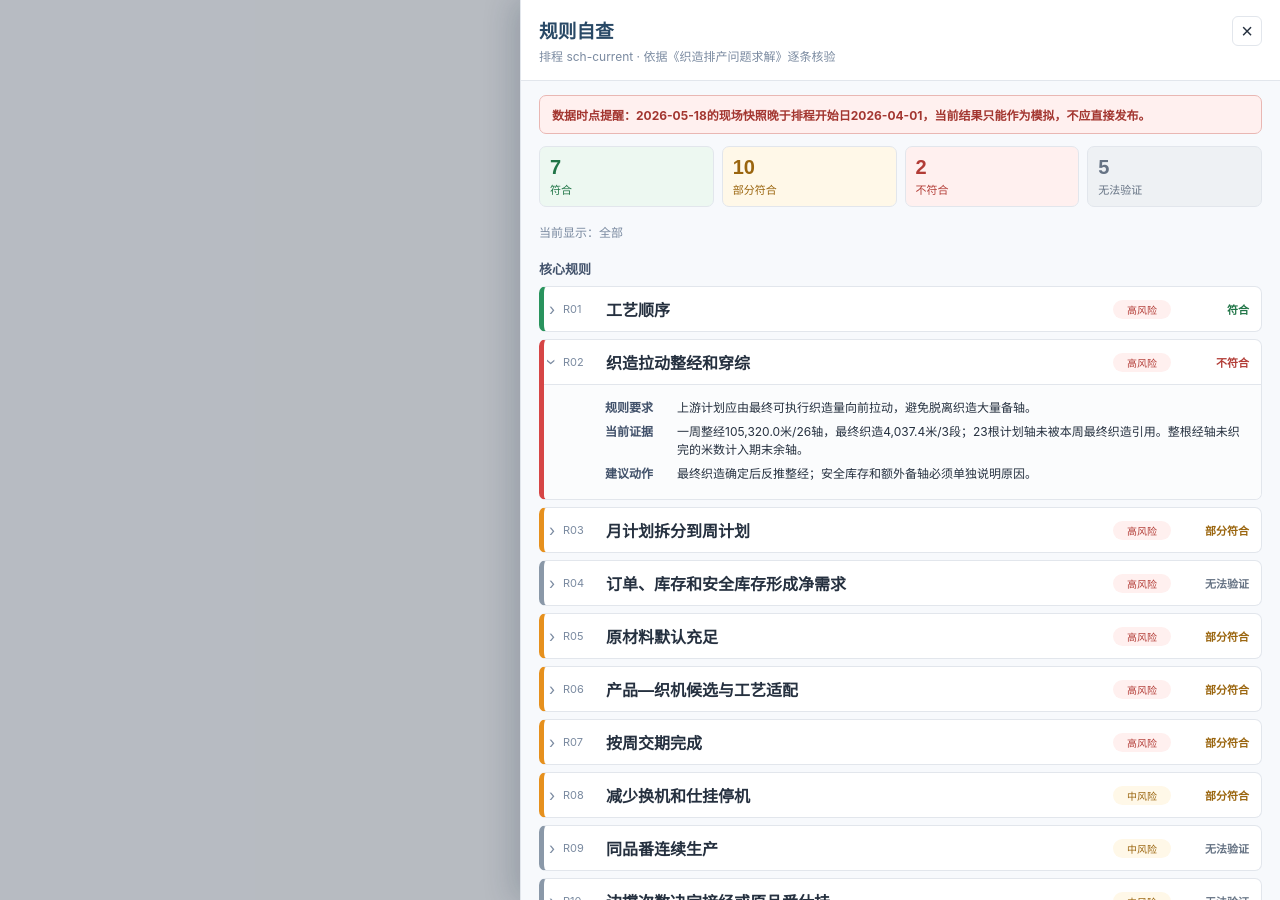
Test: 规则自查 › 抽屉可按判定筛选并查看规则证据
Check: the dialog named "规则自查明细" is shown, box [520,0,1279,899]
Check: the text "工艺顺序" is shown, box [606,300,670,320]
Click the button "2 不符合" at (992, 176), box [904,146,1079,207]
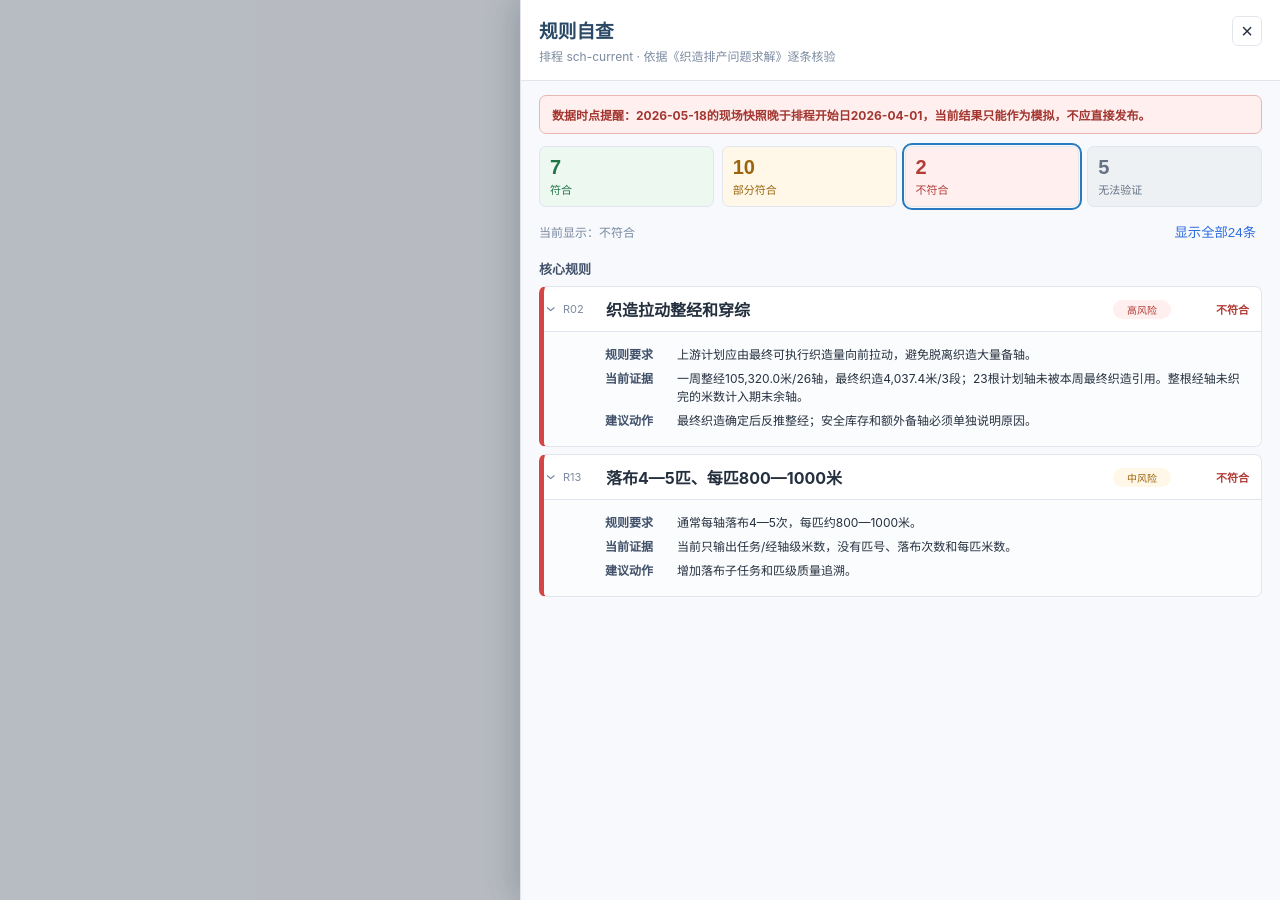
Check: the text "织造拉动整经和穿综" is shown, box [606,300,750,320]
Check: the text "落布4—5匹、每匹800—1000米" is shown, box [606,468,842,488]
Check: the heading "工艺顺序" is gone
